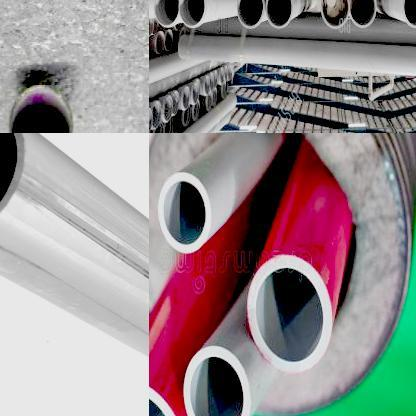pipe: (247, 254, 332, 373), (182, 345, 251, 416), (158, 172, 212, 253), (8, 83, 72, 133), (321, 0, 349, 28), (350, 0, 377, 28), (266, 0, 292, 27), (237, 0, 263, 27), (179, 0, 205, 26), (154, 0, 179, 26), (402, 0, 416, 28), (151, 101, 162, 130), (163, 95, 173, 123), (170, 90, 180, 116), (182, 104, 192, 128), (156, 31, 166, 55), (164, 29, 174, 52), (182, 86, 190, 110), (192, 100, 200, 122), (163, 116, 173, 133), (192, 82, 198, 104), (204, 74, 210, 96), (153, 121, 164, 133), (206, 92, 212, 111), (212, 88, 218, 107), (209, 72, 214, 92), (149, 20, 155, 36), (219, 67, 224, 85), (221, 82, 226, 99), (149, 107, 152, 133)
